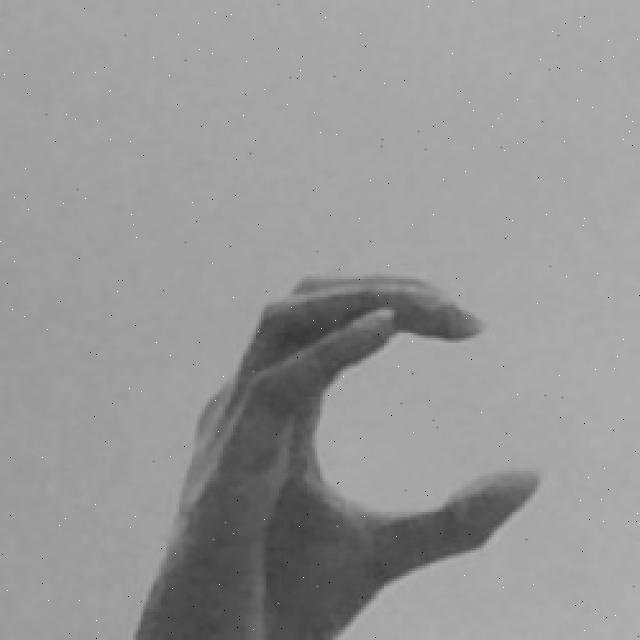C: (131, 271, 540, 640)
